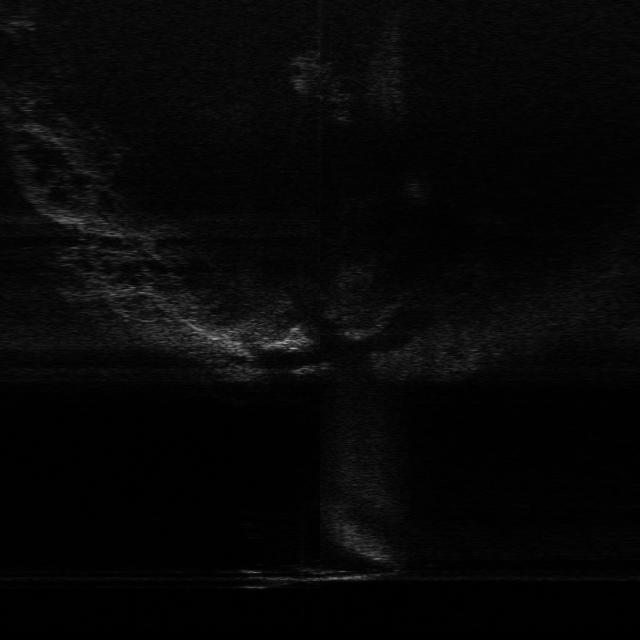plane: (232, 564, 388, 592)
